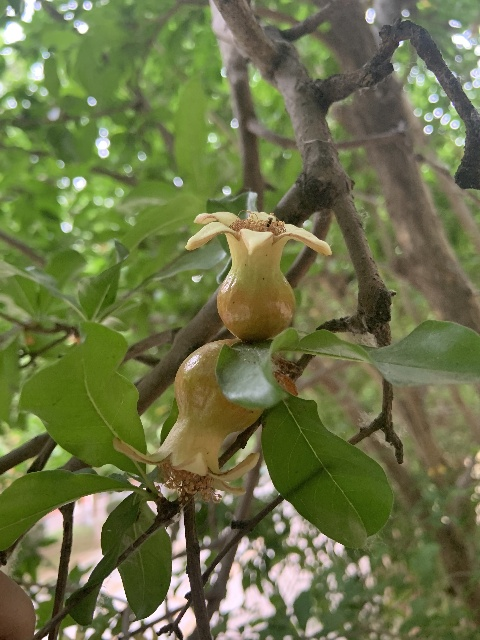early-fruit: (114, 340, 263, 504), (185, 208, 331, 343)
